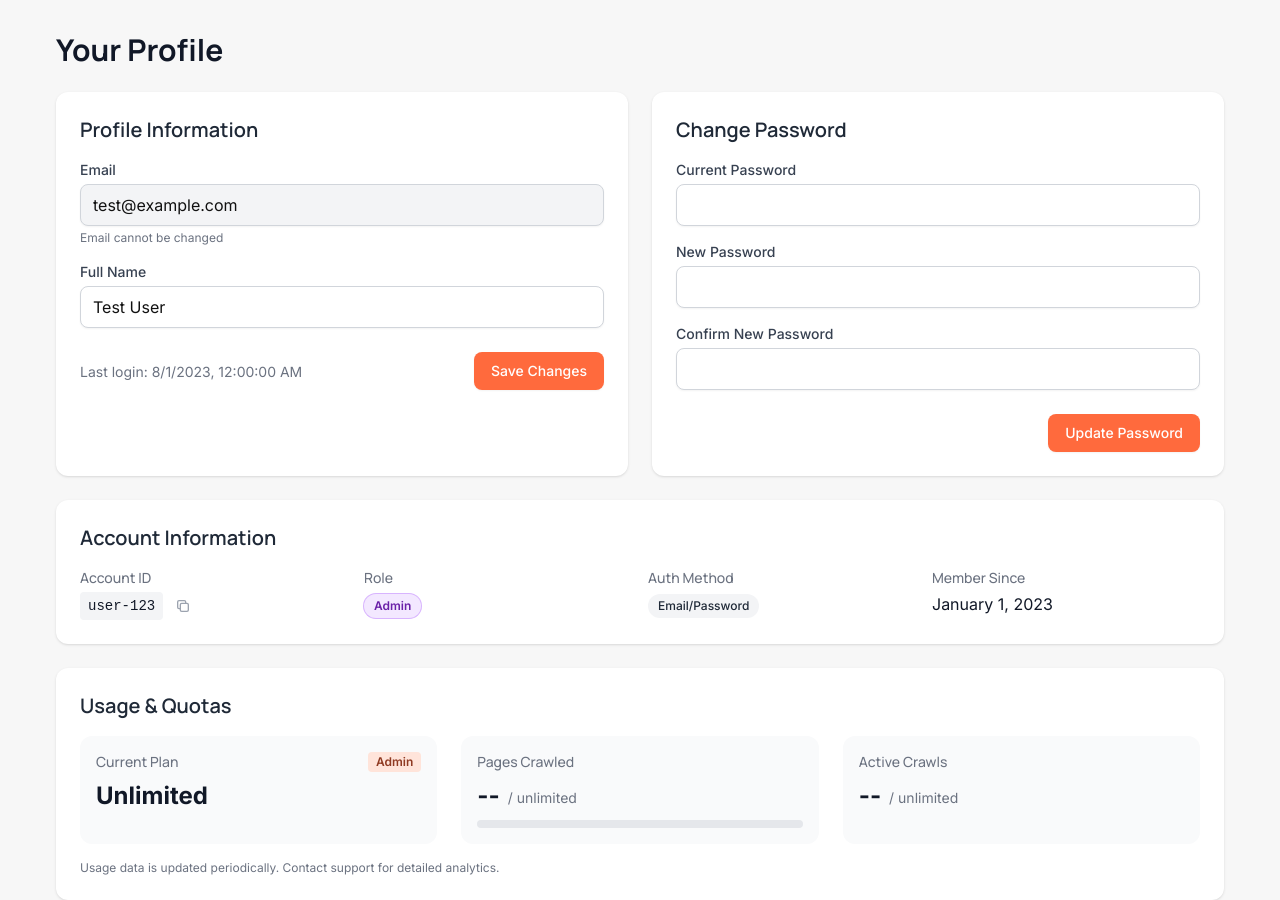
Test: ProfilePage Component › allows changing password with correct current password
Type "currentPass123" into the password field labelled "Current Password" at (938,205), box x1=676 y1=184 x2=1200 y2=226
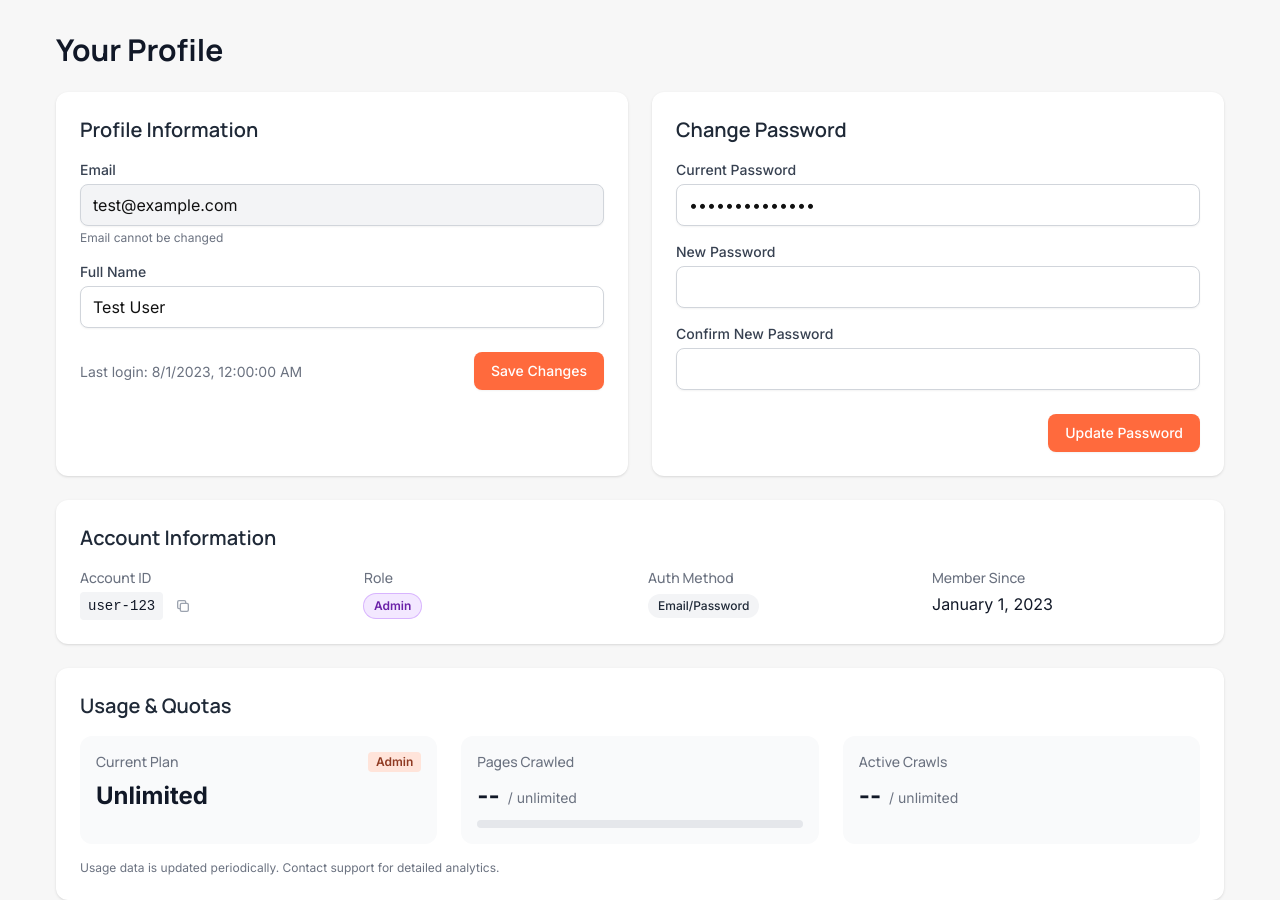
Type "newPass123" into the password field labelled "New Password" at (938,287), box x1=676 y1=266 x2=1200 y2=308
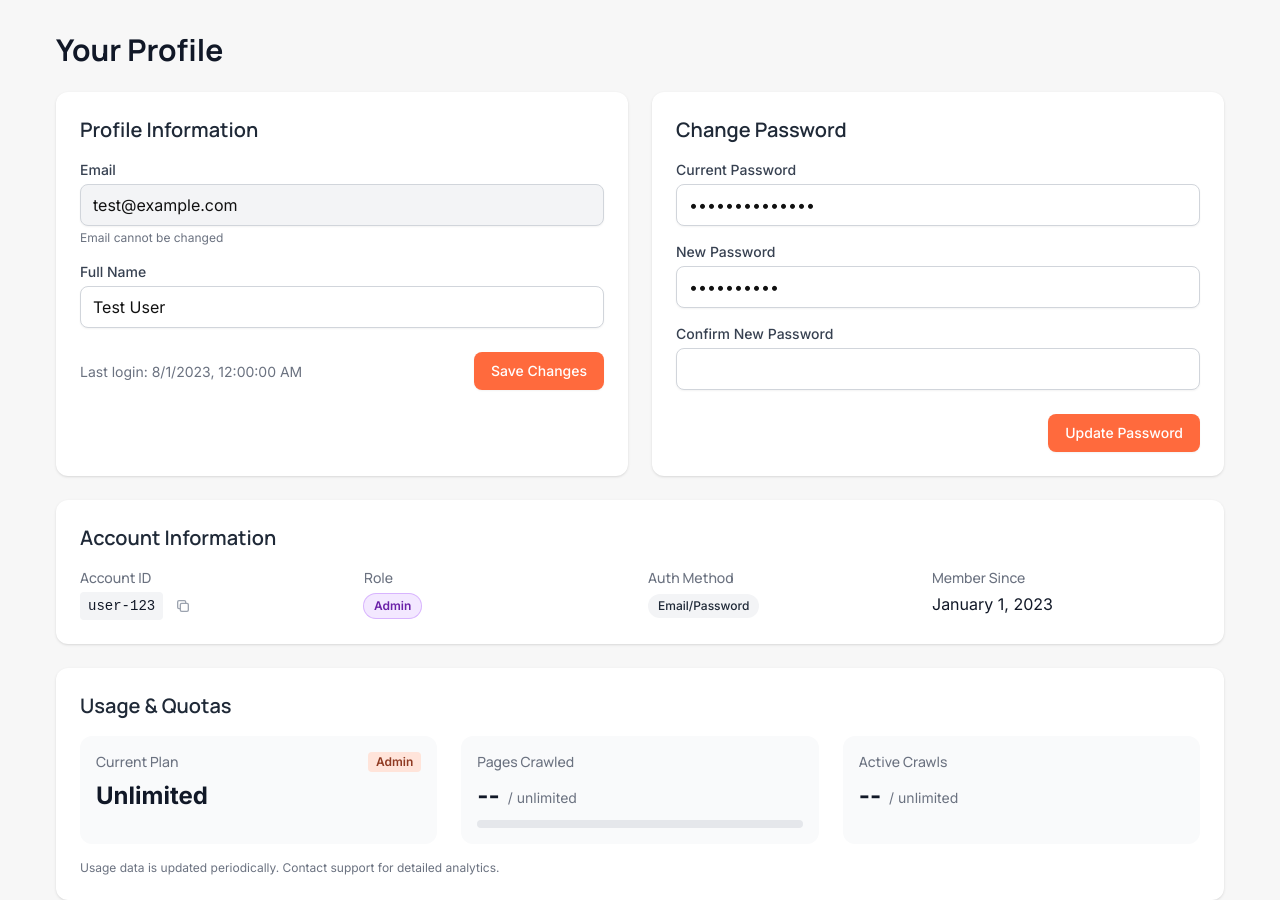
Type "newPass123" into the password field labelled "Confirm New Password" at (938,369), box x1=676 y1=348 x2=1200 y2=390
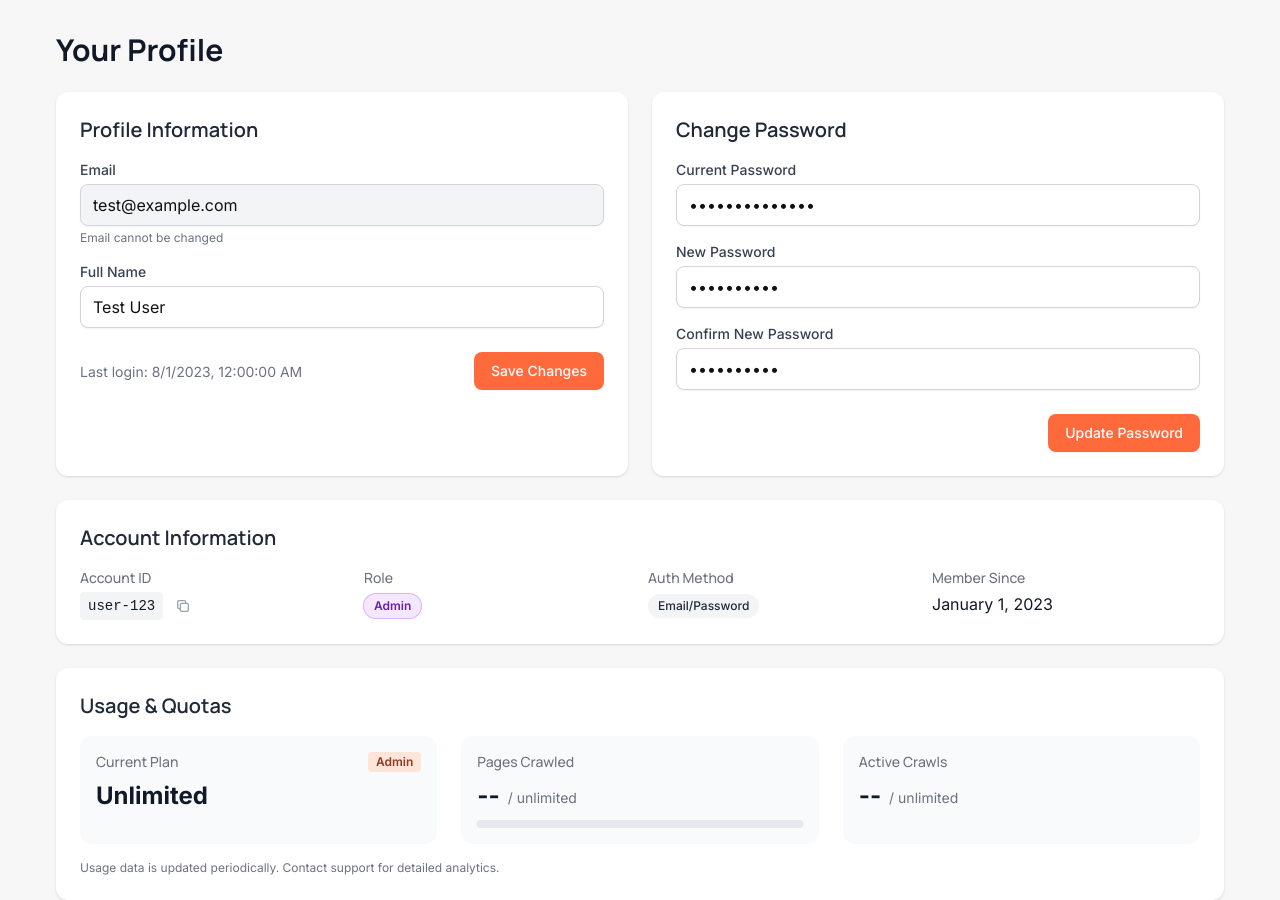
Click the button "Update Password" at (1124,433), box x1=1048 y1=414 x2=1200 y2=452
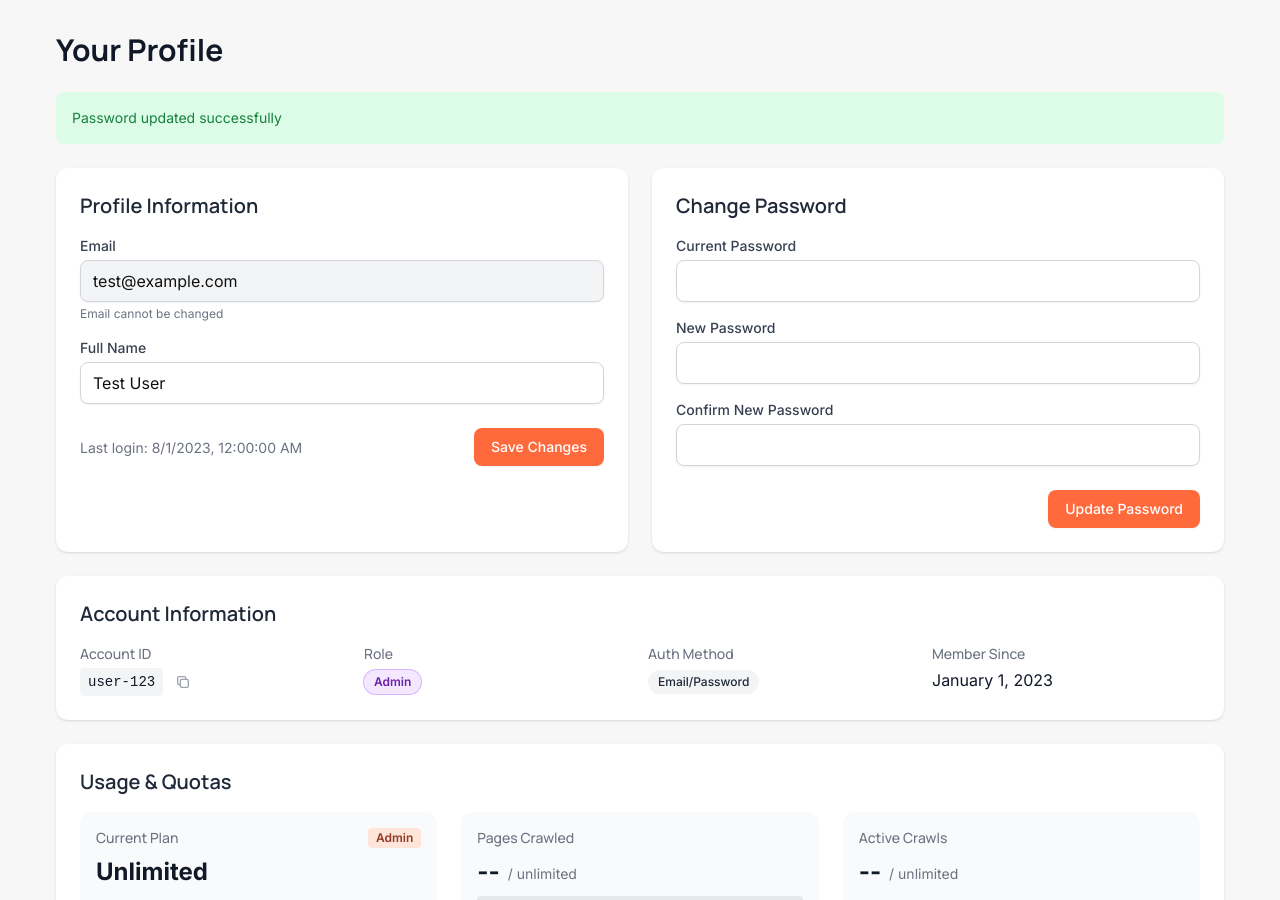
Result: the text "Password updated successfully" is shown at x1=56 y1=92 x2=1224 y2=144
